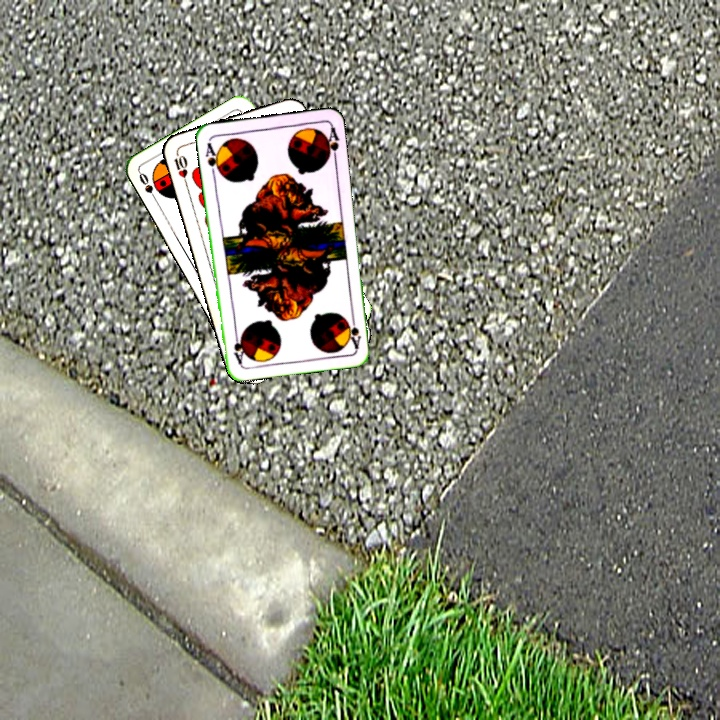H10: (170, 147, 190, 187)
SA: (343, 310, 364, 351), (201, 139, 223, 178)
SO: (135, 169, 160, 206)
